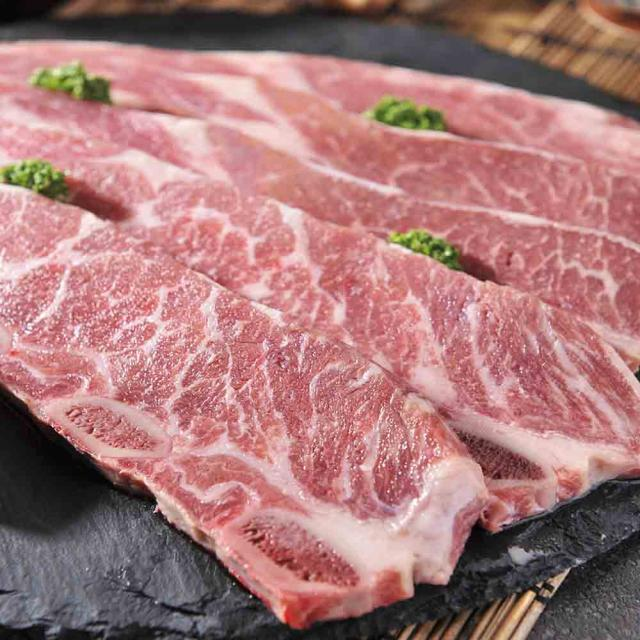beef: (83, 232, 435, 452)
